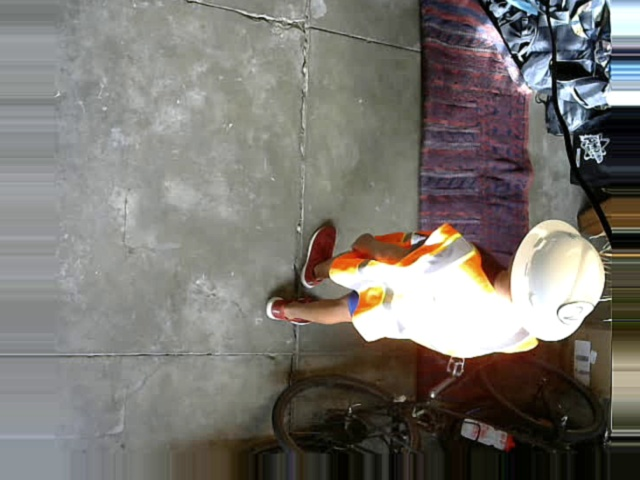two: (557, 300, 593, 323)
